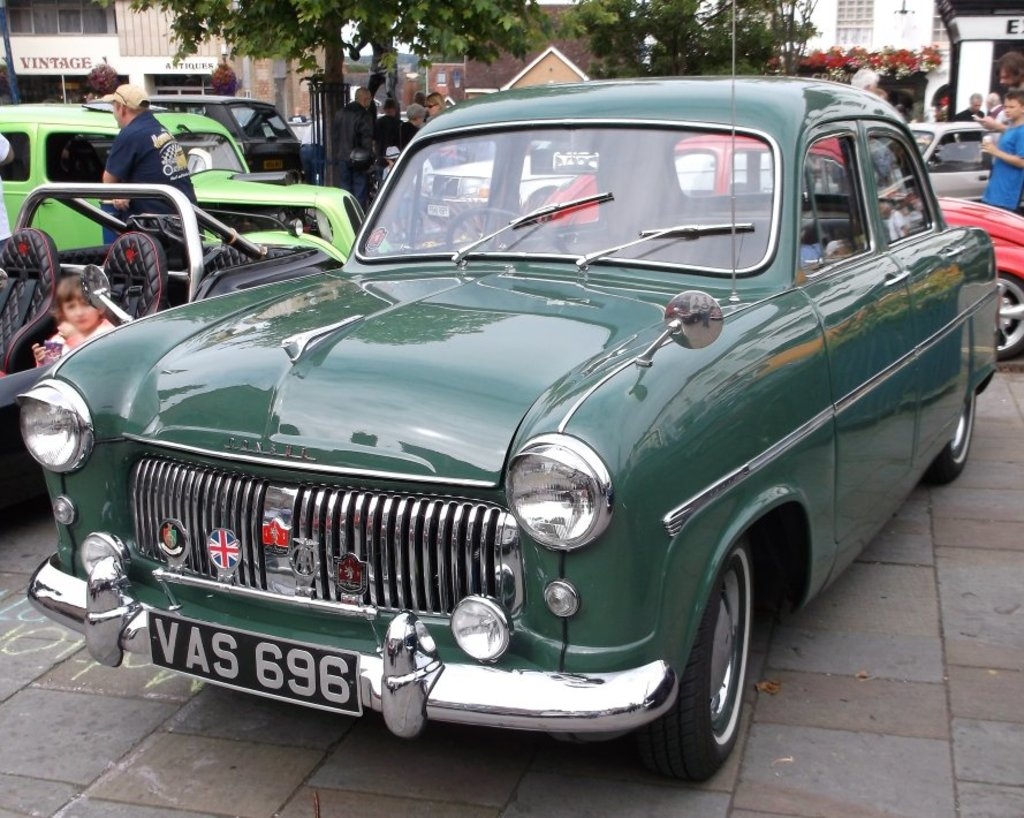Person: (0, 63, 1024, 384)
